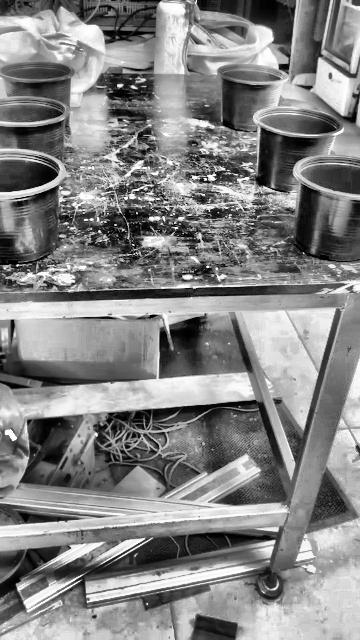pot: (0, 149, 65, 266), (254, 106, 342, 190), (293, 155, 360, 264), (0, 96, 69, 161), (217, 67, 281, 130), (0, 61, 74, 105)
